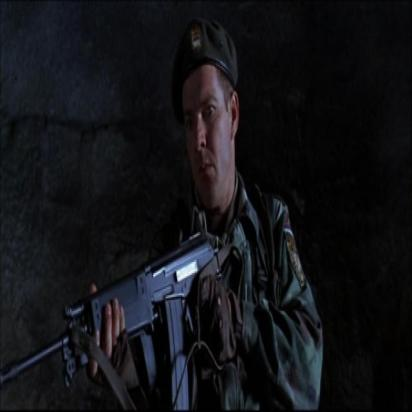Gun: (0, 203, 227, 412)
